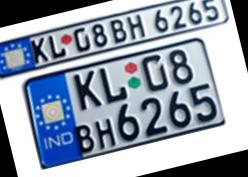plate: (16, 32, 239, 176)
